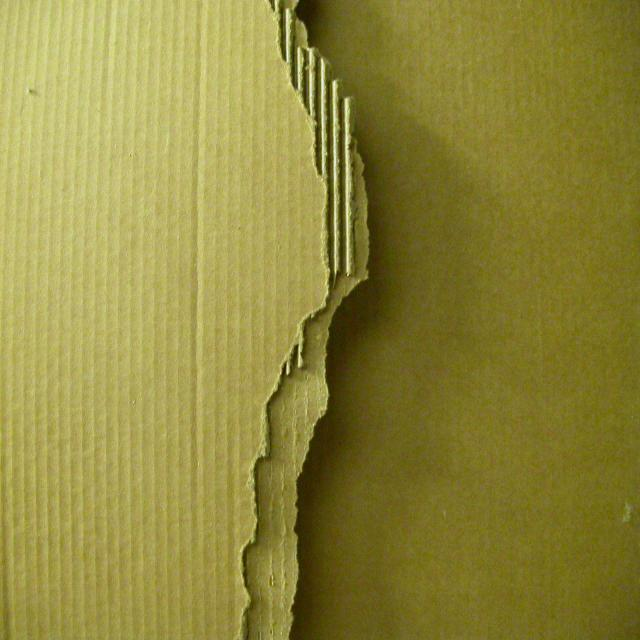cardboard: (112, 67, 372, 495)
